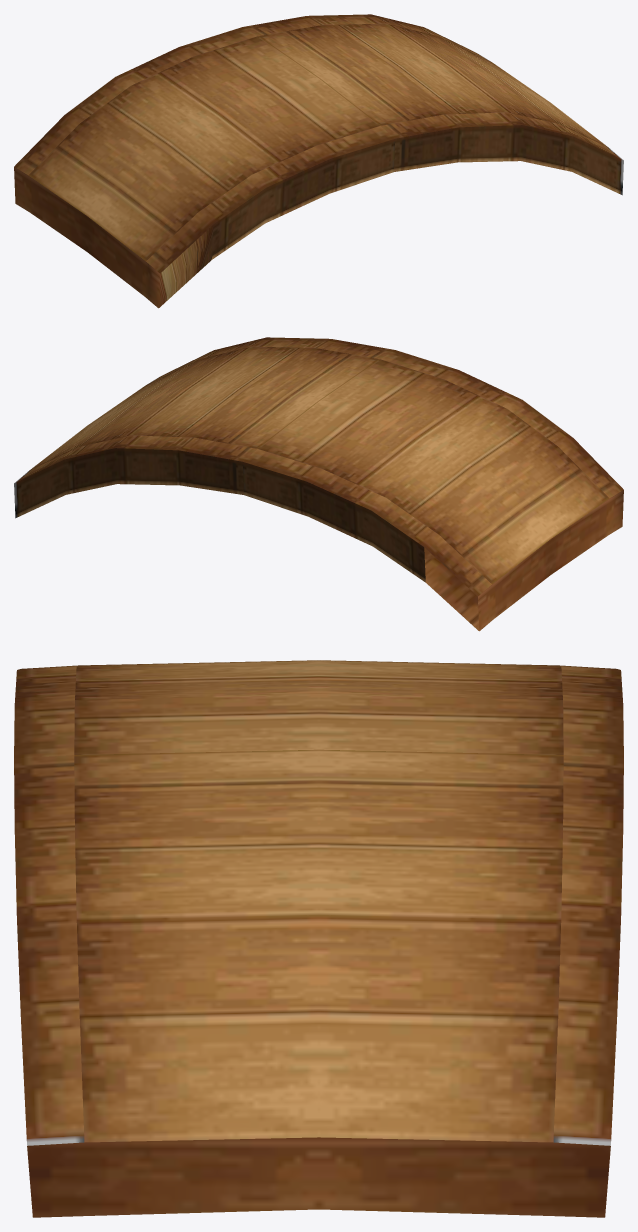
File: BridgeCollider.fbx
3 views of the same model, one above another, from view 1: azimuth 30°, elevation 25°; view 2: azimuth 150°, elevation 25°; view 3: azimuth 270°, elevation 25° (orthographic). The views are drawn at different scales.
Parts seen in each view (by area): view 1: bridge; view 2: bridge; view 3: bridge.
Boxes of the visible parts, bbox=[...] form: bridge: bbox=[14, 14, 623, 308]; bridge: bbox=[14, 337, 623, 631]; bridge: bbox=[14, 660, 623, 1217].
Bounding box in the file's own units: 1324 × 330 × 755.
1 material, 1 textured.
